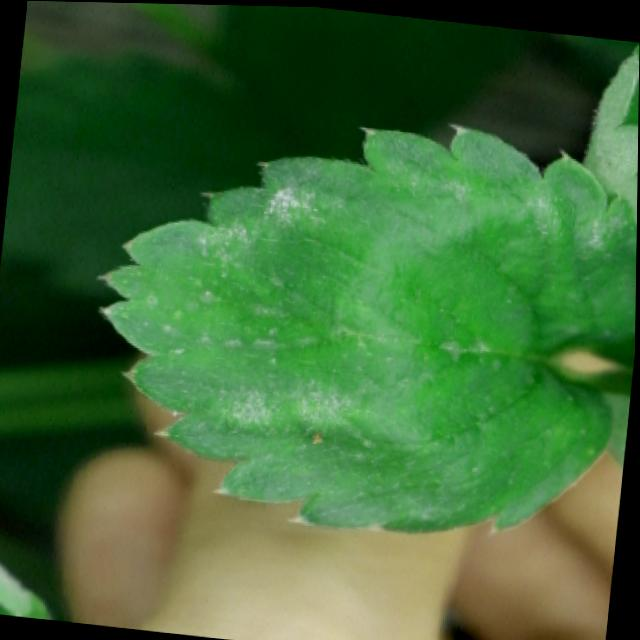Powdery Mildew Leaf: (97, 120, 638, 534), (579, 41, 640, 220), (0, 562, 58, 620)
